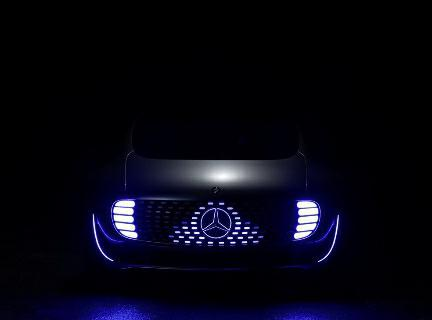奔驰-F015: (82, 104, 352, 282)
